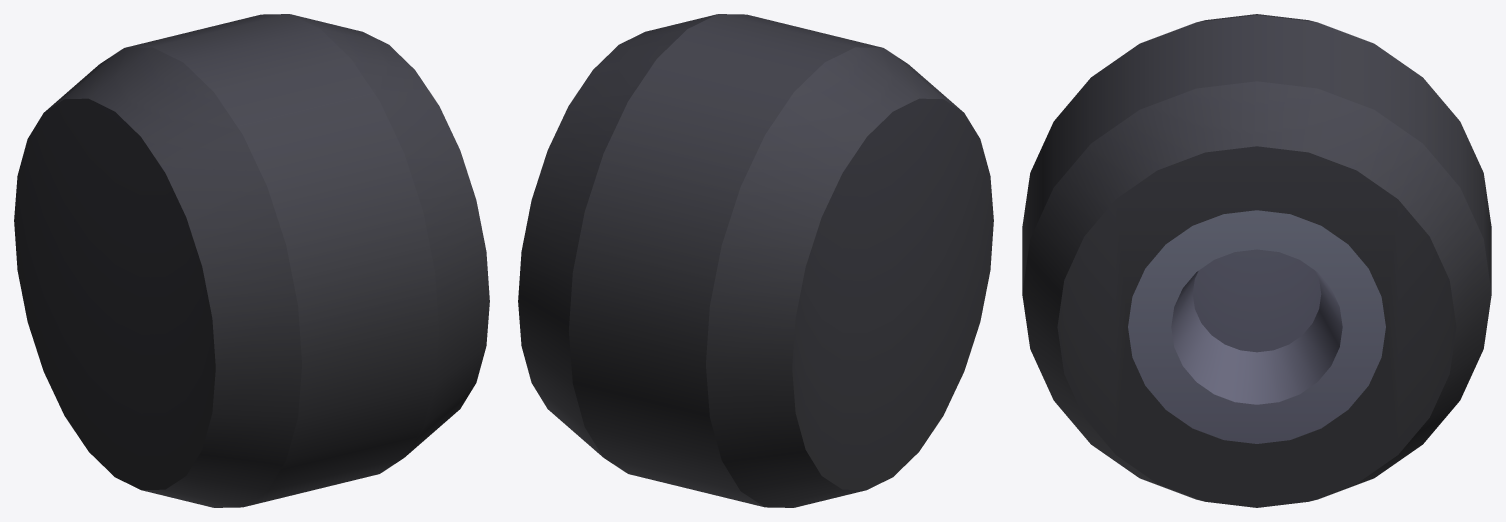
Rendered from wheel-dark.fbx.
3 views of the same model, side by side, from view 1: azimuth 30°, elevation 25°; view 2: azimuth 150°, elevation 25°; view 3: azimuth 270°, elevation 25° (orthographic).
Visible parts, largest first — view 1: wheel-dark; view 2: wheel-dark; view 3: wheel-dark.
Boxes of the visible parts, <box> form: wheel-dark: <box>14,14,489,507</box>; wheel-dark: <box>518,14,993,507</box>; wheel-dark: <box>1022,14,1491,507</box>.
Size of the model in its own units: 40 by 60 by 60.
1 material, 1 textured.
